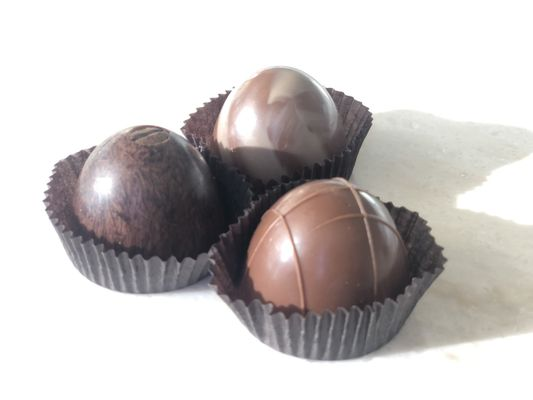sushi: (53, 66, 446, 361), (40, 66, 394, 299), (208, 177, 447, 361)
